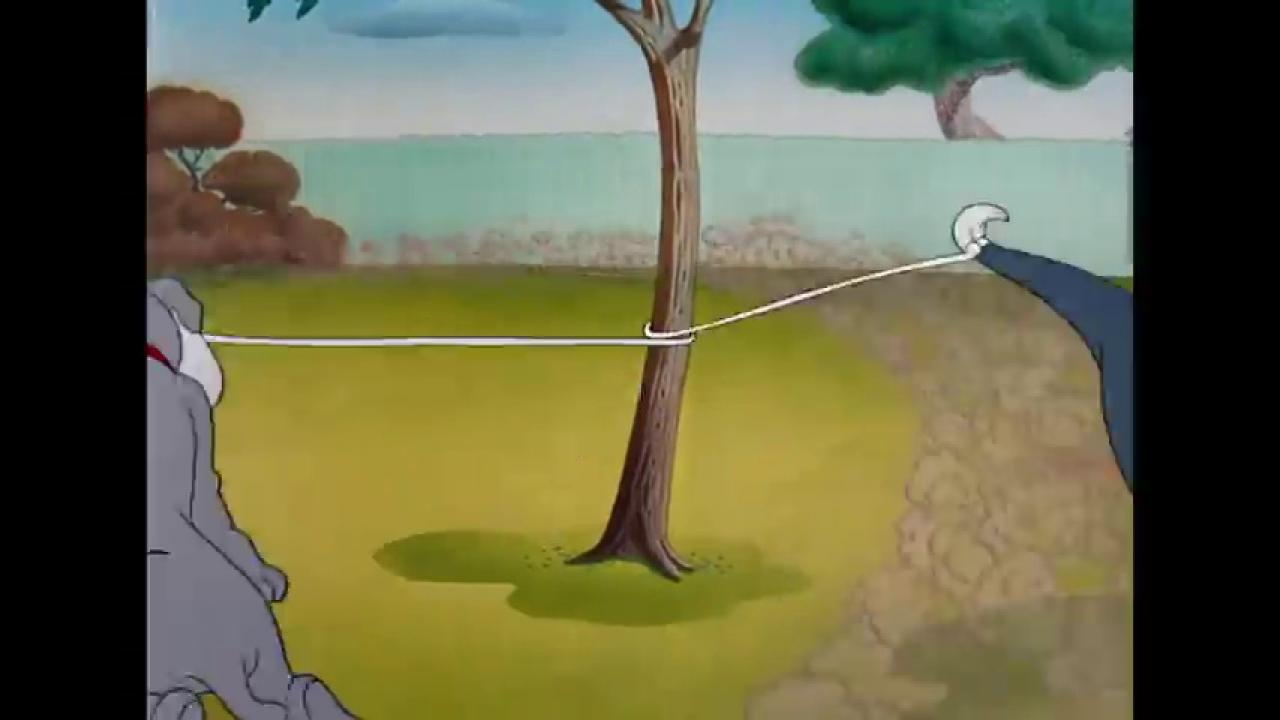Tom: (942, 199, 1132, 503)
